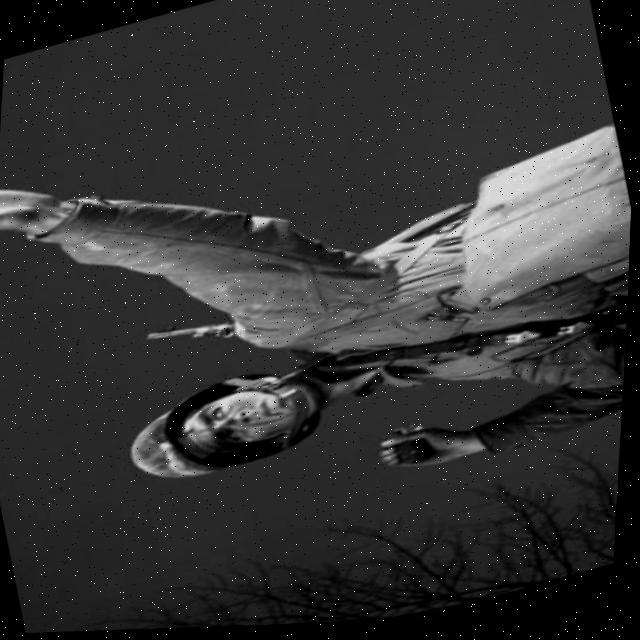grenade: (379, 417, 445, 477)
